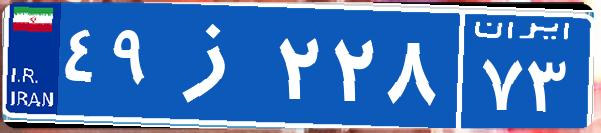2: (273, 28, 330, 110), (330, 28, 385, 110)
3: (525, 38, 570, 115)
4: (57, 26, 110, 107)
7: (475, 38, 525, 113)
8: (385, 28, 445, 110)
9: (110, 28, 158, 105)
ز: (158, 15, 273, 115)
